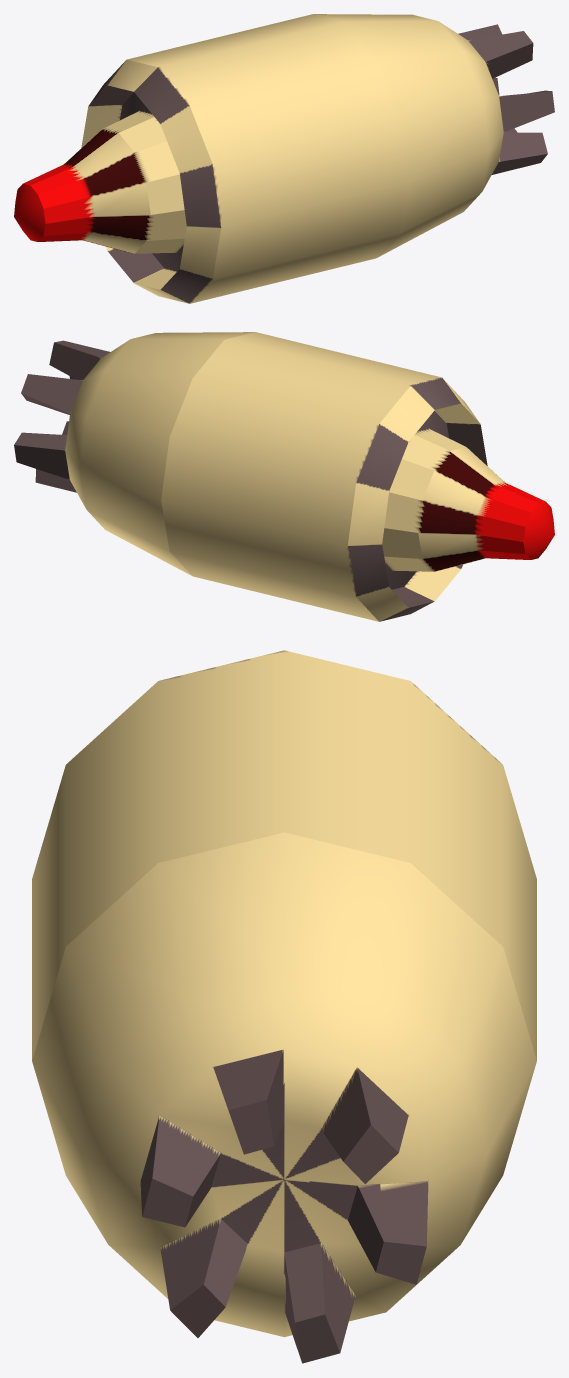
Rendered from other parts 2.FBX.
3 renders of one model, top to bottom at view 1: azimuth 30°, elevation 25°; view 2: azimuth 150°, elevation 25°; view 3: azimuth 270°, elevation 25°, orthographic. The views are drawn at different scales.
Parts seen in each view (by area): view 1: OilTank001; view 2: OilTank001; view 3: OilTank001.
Part boxes in pixels (x1,y1,x2,y2): OilTank001: (14,14,554,303); OilTank001: (14,332,554,621); OilTank001: (32,650,536,1363).
Size of the model in its own units: 82.99 by 35.69 by 35.69.
1 material, 1 textured.
